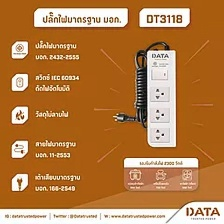three_eye_plug: (142, 47, 178, 150)
